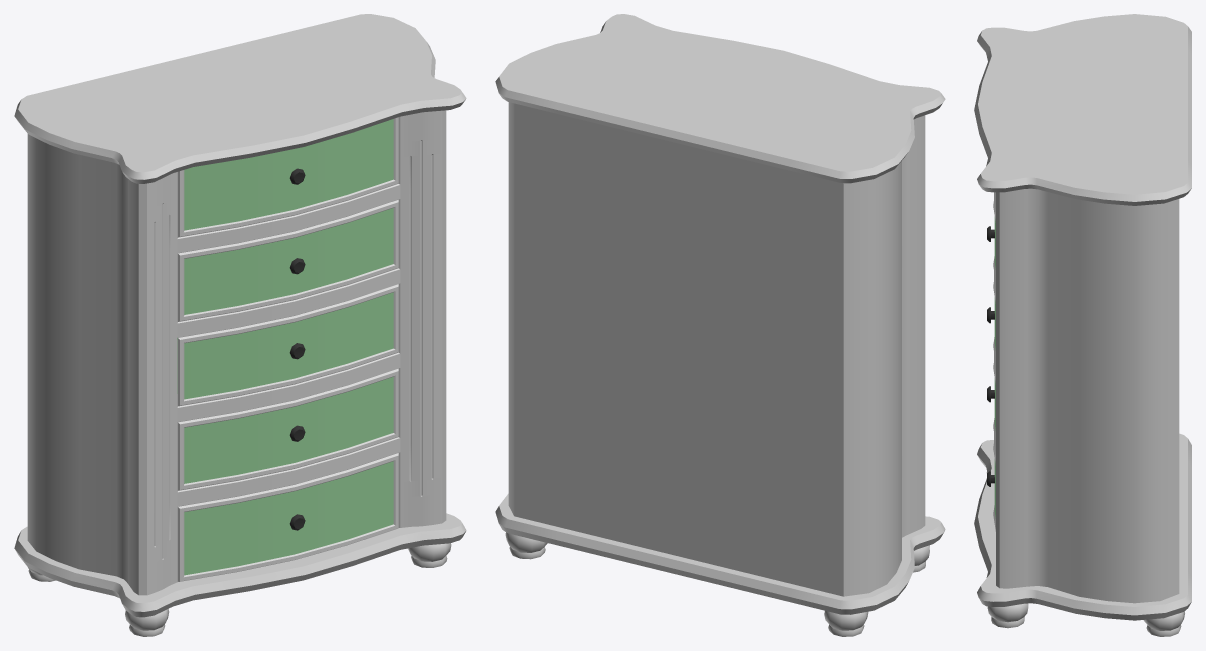
3 renders of one model, left to right at view 1: azimuth 30°, elevation 25°; view 2: azimuth 150°, elevation 25°; view 3: azimuth 270°, elevation 25°, orthographic. The views are drawn at different scales.
Visible parts, largest first — view 1: WD5486W; view 2: WD5486W; view 3: WD5486W.
Part boxes in pixels (left/top/right/bottom): WD5486W: left=14, top=14, right=466, bottom=636; WD5486W: left=495, top=14, right=945, bottom=636; WD5486W: left=974, top=14, right=1191, bottom=636.
Bounding box in the file's own units: 70 × 35 × 80.
